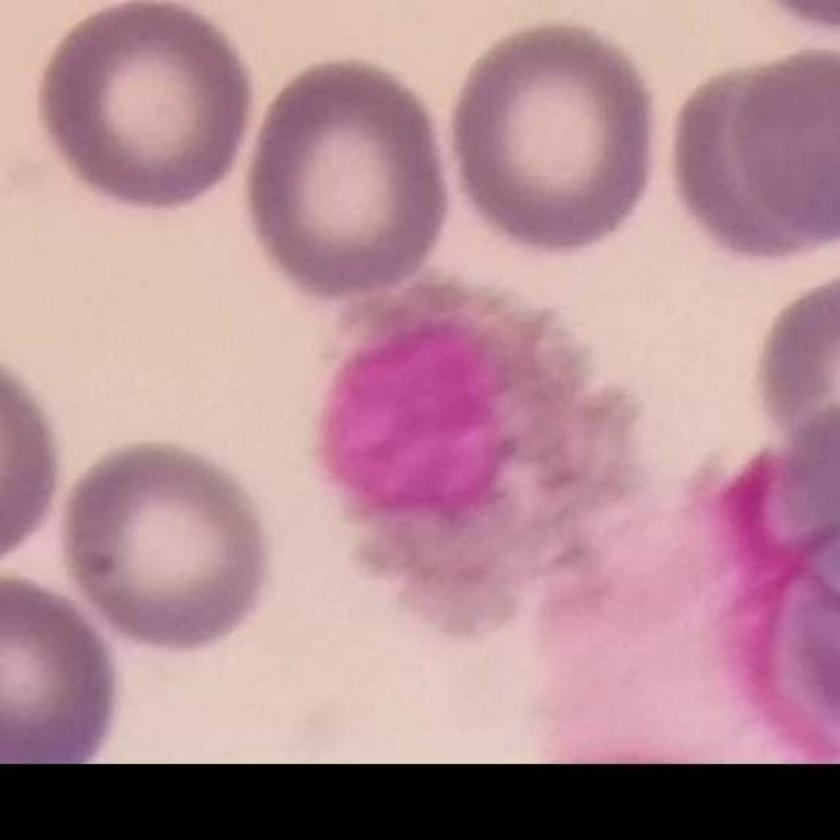eosinophil: (312, 265, 674, 669)
